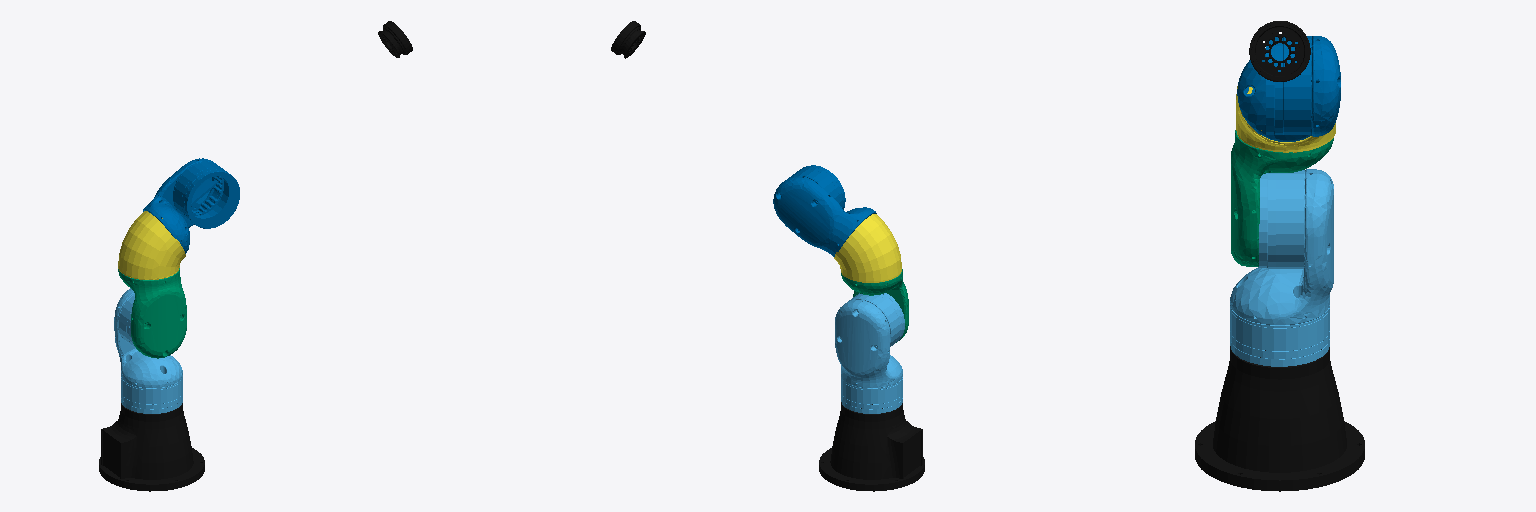
The robot description file, URDF, robot "igus_rebel":
<?xml version="1.0"?>
<robot name="igus_rebel">

<!-- measured from model -->
  <link name="base_link">
    <visual>
      <geometry>
        <mesh filename="package://igus_rebel_description/meshes/robolink_rebel/Robolink_RebeL_000.dae"/>
      </geometry>
    </visual>
    <collision>
      <geometry>
        <mesh filename="package://igus_rebel_description/meshes/robolink_rebel/Robolink_RebeL_000.dae"/>
      </geometry>
    </collision>
    <inertial>
      <mass value="1.0" />
      <inertia ixx="1.0" iyy="1.0" izz="1.0" ixy="0.0" ixz="0.0" iyz="0.0" />
    </inertial>
  </link>
  

  
  <joint name="joint1" type="revolute">
    <parent link="base_link"/>
    <child link="link_1"/>
    <origin rpy="0.0 0.0 3.1416" xyz="0.0 0 0.126"/>
    <axis xyz="0 0 -1"/>
    <limit effort="330.0" lower="-3.12414" upper="3.12414" velocity="2.16"/> <!-- limit taken from the controller -->
    <dynamics damping="0.0" friction="0.0"/>
  </joint>
  
  <link name="link_1">
    <visual>
      <geometry>
        <mesh filename="package://igus_rebel_description/meshes/robolink_rebel/Robolink_RebeL_001.dae"/>
      </geometry>
      <origin rpy="0 0 3.1416" xyz="0.0 0.0 -0.0537"/>
    </visual>
    <collision>
      <geometry>
        <mesh filename="package://igus_rebel_description/meshes/robolink_rebel/Robolink_RebeL_001.dae"/>
      </geometry>
      <origin rpy="0 0 3.1416" xyz="0.0 0.0 -0.0537"/>
    </collision>
    <inertial>
      <mass value="0.1" />
      <inertia ixx="0.03" iyy="0.03" izz="0.03" ixy="0.0" ixz="0.0" iyz="0.0" />
    </inertial>
  </link>
  
   
  <joint name="joint2" type="revolute">
    <parent link="link_1"/>
    <child link="link_2"/>
    <origin rpy="0.0 0.0 0.0" xyz="0.0 0.025 0.153"/>
    <axis xyz="0 -1 0"/>
    <limit effort="330.0" lower="-1.48353" upper="2.44346" velocity="2.16"/> <!-- limits taken from the controller -->
    <dynamics damping="0.0" friction="0.0"/>
  </joint>
  
  <link name="link_2">
    <visual>
      <geometry>
        <mesh filename="package://igus_rebel_description/meshes/robolink_rebel/Robolink_RebeL_002_0.dae"/>
      </geometry>
      <origin rpy="-1.5707 0 0" xyz="0 -0.005 -0.00625"/>
    </visual>
    <collision>
      <geometry>
        <mesh filename="package://igus_rebel_description/meshes/robolink_rebel/Robolink_RebeL_002_0.dae"/>
      </geometry>
      <origin rpy="-1.5707 0 0" xyz="0 -0.005 -0.00625"/>
    </collision>
    <inertial>
      <mass value="0.1" />
      <inertia ixx="0.03" iyy="0.03" izz="0.03" ixy="0.0" ixz="0.0" iyz="0.0" />
    </inertial>
  </link>
  

  <joint name="joint_fixed_1" type="fixed">
    <parent link="link_2"/>
    <child link="link_3"/>
    <origin rpy="0.0 0.0 0.0" xyz="0.0 -0.025 0.1"/>
    <dynamics damping="0.0" friction="0.0"/>
  </joint>
    
  <link name="link_3">
    <visual>
      <geometry>
        <mesh filename="package://igus_rebel_description/meshes/robolink_rebel/Robolink_RebeL_002_1.dae"/>
      </geometry>
      <origin rpy="0 0 3.1416" xyz="0 -0.00625 -0.00625"/>
    </visual>
    <collision>
      <geometry>
        <mesh filename="package://igus_rebel_description/meshes/robolink_rebel/Robolink_RebeL_002_1.dae"/>
      </geometry>
      <origin rpy="0 0 3.1416" xyz="0 -0.00625 -0.00625"/>
    </collision>
    <inertial>
      <mass value="0.1" />
      <inertia ixx="0.03" iyy="0.03" izz="0.03" ixy="0.0" ixz="0.0" iyz="0.0" />
    </inertial>    
  </link>
  
  
  <joint name="joint_fixed_2" type="fixed">
    <parent link="link_3"/>
    <child link="link_4"/>
    <origin rpy="0.0 -1.0472 0.0" xyz="-0.0326 0.0 0.05646"/>
    <dynamics damping="0.0" friction="0.0"/>
  </joint>
  
    <link name="link_4">
    <visual>
      <geometry>
        <mesh filename="package://igus_rebel_description/meshes/robolink_rebel/Robolink_RebeL_002_2.dae"/>
      </geometry>
      <origin rpy="0 0 -3.1416" xyz="0.0 0.0 -0.00625"/>
    </visual>
    <collision>
      <geometry>
        <mesh filename="package://igus_rebel_description/meshes/robolink_rebel/Robolink_RebeL_002_2.dae"/>
      </geometry>
      <origin rpy="0 0 -3.1416" xyz="0.0 0.0 -0.00625"/>
    </collision>
    <inertial>
      <mass value="0.1" />
      <inertia ixx="0.03" iyy="0.03" izz="0.03" ixy="0.0" ixz="0.0" iyz="0.0" />
    </inertial>
  </link>
  
    <joint name="joint3" type="revolute">
    <parent link="link_4"/>
    <child link="link_5"/>
    <origin rpy="0.0 0.0 0.0" xyz="0.0 0.025 0.1"/> <!-- 1.0472 -->
    <axis xyz="0 -1 0"/>
    <limit effort="330.0" lower="-1.39626" upper="2.61799" velocity="2.16"/>
    <dynamics damping="0.0" friction="0.0"/>
  </joint>
  
  <link name="link_5">
    <visual>
      <geometry>
        <mesh filename="package://igus_rebel_description/meshes/robolink_rebel/Robolink_RebeL_003.dae"/>
      </geometry>
      <origin rpy="-1.5707 0 0" xyz="0 -0.008 -0.008"/>
    </visual>
    <collision>
      <geometry>
        <mesh filename="package://igus_rebel_description/meshes/robolink_rebel/Robolink_RebeL_003.dae"/>
      </geometry>
      <origin rpy="-1.5707 0 0" xyz="0 -0.008 -0.008"/>
    </collision>
    <inertial>
      <mass value="0.1" />
      <inertia ixx="0.03" iyy="0.03" izz="0.03" ixy="0.0" ixz="0.0" iyz="0.0" />
    </inertial>
  </link>
  
  
  <joint name="joint4" type="revolute">
    <parent link="link_5"/>
    <child link="link_6"/>
    <origin rpy="0.0 0.0 0.0" xyz="0.0 -0.025 0.153"/> 
    <axis xyz="0 0 1"/>
    <limit effort="330.0" lower="-3.12414" upper="3.12414" velocity="2.16"/>
    <dynamics damping="0.0" friction="0.0"/>
  </joint>
  
  <link name="link_6">
    <visual>
      <geometry>
        <mesh filename="package://igus_rebel_description/meshes/robolink_rebel/Robolink_RebeL_004.dae"/>
      </geometry>
      <origin rpy="0 0 0" xyz="0 0 -0.003125"/>
    </visual>
    <collision>
      <geometry>
        <mesh filename="package://igus_rebel_description/meshes/robolink_rebel/Robolink_RebeL_004.dae"/>
      </geometry>
      <origin rpy="0 0 0" xyz="0 0 -0.003125"/>
    </collision>
    <inertial>
      <mass value="0.1" />
      <inertia ixx="0.03" iyy="0.03" izz="0.03" ixy="0.0" ixz="0.0" iyz="0.0" />
    </inertial>
  </link>
  
  <joint name="joint5" type="revolute">
    <parent link="link_6"/>
    <child link="link_7"/>
    <origin rpy="0.0 0.0 0.0" xyz="0.0 0.029 0.143"/>
    <axis xyz="0 -1 0"/>
    <limit effort="330.0" lower="-1.65806" upper="1.65806" velocity="2.16"/>
    <dynamics damping="0.0" friction="0.0"/>
  </joint>
  
  <link name="link_7">
    <visual>
      <geometry>
        <mesh filename="package://igus_rebel_description/meshes/robolink_rebel/Robolink_RebeL_005.dae"/>
      </geometry>
      <origin rpy="0 1.57 -1.5707" xyz="0 -0.00625 0"/>
    </visual>
    <collision>
      <geometry>
        <mesh filename="package://igus_rebel_description/meshes/robolink_rebel/Robolink_RebeL_005.dae"/>
      </geometry>
      <origin rpy="0 1.57 -1.5707" xyz="0 -0.00625 0"/>
    </collision>
    <inertial>
      <mass value="0.1" />
      <inertia ixx="0.03" iyy="0.03" izz="0.03" ixy="0.0" ixz="0.0" iyz="0.0" />
    </inertial>
  </link>
  
  
  <joint name="joint6" type="revolute">
    <parent link="link_7"/>
    <child link="link_8"/>
    <origin rpy="0.0 0.0 0.0" xyz="0.0 -0.029 0.1188"/>
    <axis xyz="0 0 1"/>
    <limit effort="330.0" lower="-3.12414" upper="3.12414" velocity="2.16"/>
    <dynamics damping="0.0" friction="0.0"/>
  </joint>
  
  <link name="link_8">
    <visual>
      <geometry>
        <mesh filename="package://igus_rebel_description/meshes/robolink_rebel/Robolink_RebeL_006.dae"/>
      </geometry>
      <origin rpy="0 -1.57 0" xyz="0.0 0.0 -0.00625"/>
    </visual>
    <collision>
      <geometry>
        <mesh filename="package://igus_rebel_description/meshes/robolink_rebel/Robolink_RebeL_006.dae"/>
      </geometry>
      <origin rpy="0 -1.57 0" xyz="0.0 0.0 -0.00625"/>
    </collision>
    <inertial>
      <mass value="0.1" />
      <inertia ixx="0.03" iyy="0.03" izz="0.03" ixy="0.0" ixz="0.0" iyz="0.0" />
    </inertial>
  </link>
  
</robot>

--- Render facts (derived) ---
3 views of the same robot in one strip: view 1: azimuth 30°, elevation 25°; view 2: azimuth 150°, elevation 25°; view 3: azimuth 270°, elevation 25° (orthographic).
Robot: igus_rebel — 9 links, 8 joints (6 revolute, 2 fixed); root link base_link; default pose: all joints at 0.
Visible links, largest first — view 1: base_link, link_4, link_1, link_2, link_3, link_8; view 2: link_1, base_link, link_4, link_3, link_2, link_8; view 3: base_link, link_1, link_4, link_2, link_8, link_3.
Link boxes in pixels (x1,y1,x2,y2): base_link: (99, 403, 204, 491); link_4: (143, 158, 239, 253); link_1: (114, 288, 182, 413); link_2: (118, 268, 186, 358); link_3: (118, 211, 185, 279); link_8: (378, 21, 412, 57); link_1: (835, 293, 904, 413); base_link: (819, 402, 924, 491); link_4: (773, 165, 876, 256); link_3: (834, 214, 901, 282); link_2: (841, 269, 908, 342); link_8: (611, 21, 645, 58); base_link: (1195, 346, 1364, 491); link_1: (1230, 169, 1333, 366); link_4: (1237, 36, 1340, 141); link_2: (1231, 130, 1333, 266); link_8: (1249, 21, 1310, 81); link_3: (1236, 86, 1335, 152).
Bounding box of the posed robot: 0.593 × 0.1795 × 0.7268 m (x, y, z).
Meshes: 9 distinct files referenced, 6 mesh visuals loaded (6 Collada DAE); not drawn: 3 (reference not matched to a file when rendering).